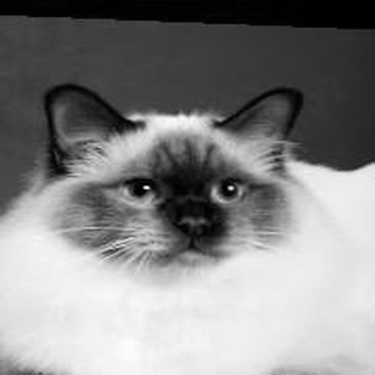cat: (44, 77, 299, 332)
